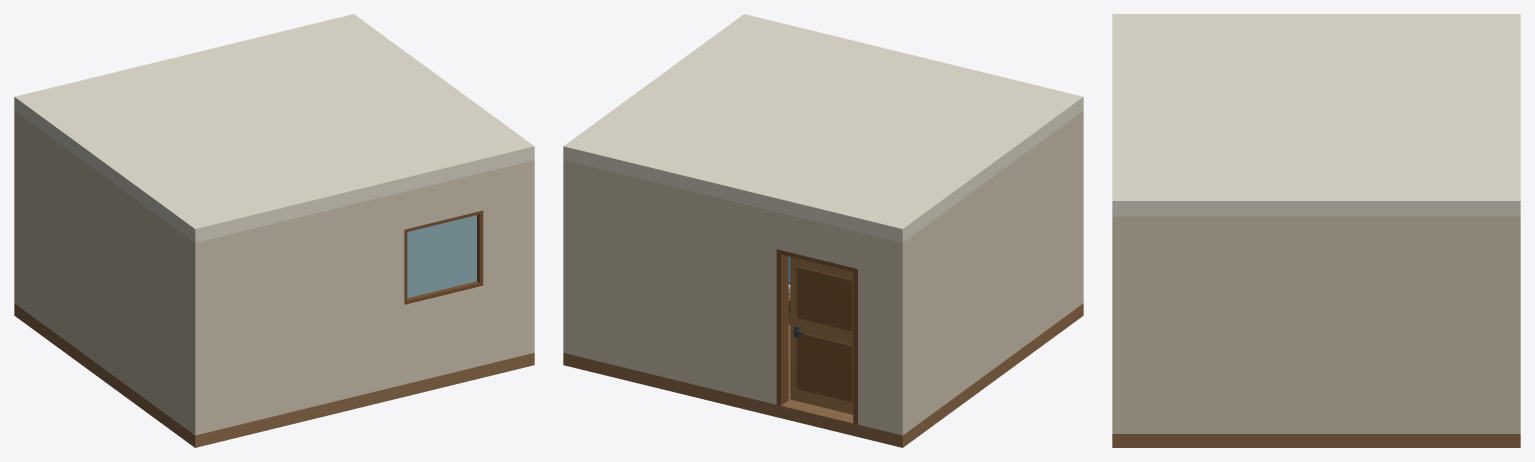
The model's file is room_sample.fbx.
The picture shows the model from 3 angles, left to right: view 1: azimuth 30°, elevation 25°; view 2: azimuth 150°, elevation 25°; view 3: azimuth 270°, elevation 25°; orthographic projection. The views are drawn at different scales.
Parts seen in each view (by area): view 1: Architecture_Shell, Window_Pane; view 2: Architecture_Shell, Door_Panel, Door_01_Leaf, Door_Panel.001, Door_Jamb_R, Door_Jamb_L; view 3: Architecture_Shell.
Boxes of the visible parts, bbox=[...] form: Architecture_Shell: bbox=[14, 14, 534, 447]; Window_Pane: bbox=[407, 215, 476, 297]; Architecture_Shell: bbox=[563, 14, 1083, 447]; Door_Panel: bbox=[796, 333, 852, 402]; Door_01_Leaf: bbox=[790, 257, 853, 414]; Door_Panel.001: bbox=[796, 266, 852, 331]; Door_Jamb_R: bbox=[776, 253, 788, 405]; Door_Jamb_L: bbox=[853, 272, 857, 424]; Architecture_Shell: bbox=[1112, 14, 1520, 447].
Bounding box in the file's own units: 5.16 × 3.18 × 4.76.
